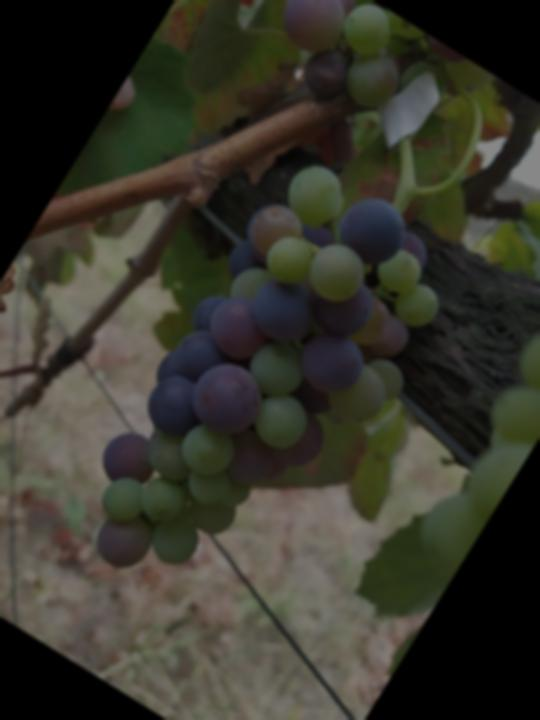grape: (51, 141, 485, 650)
